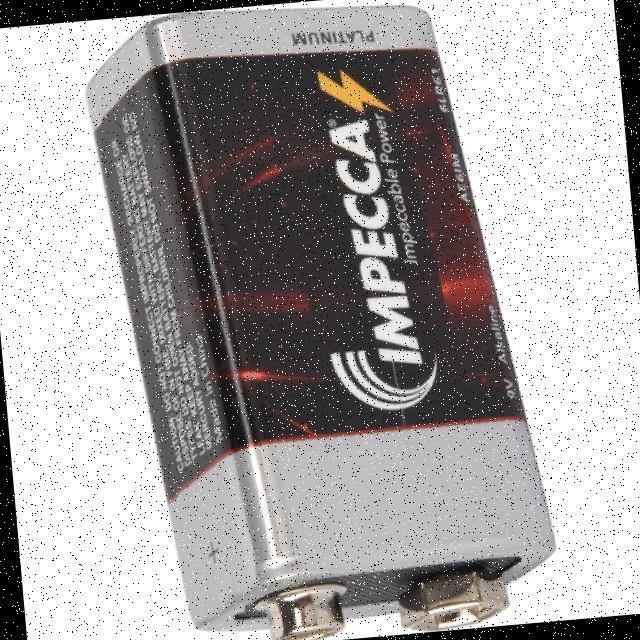9V: (83, 1, 557, 637)
